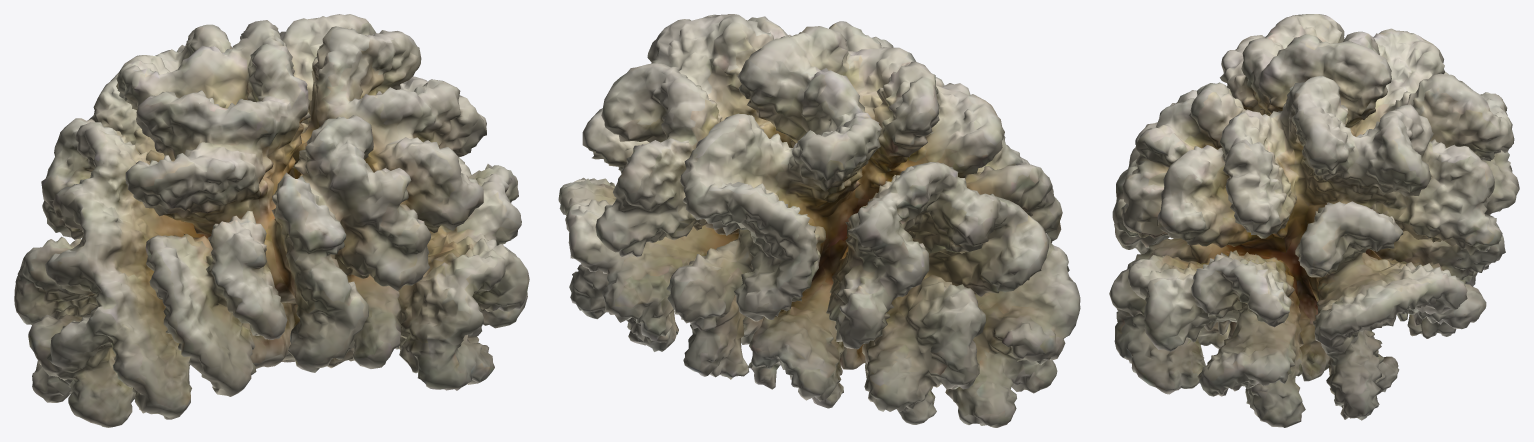
Rendered from coral_pocillopora.glb.
3 renders of one model, left to right at view 1: azimuth 30°, elevation 25°; view 2: azimuth 150°, elevation 25°; view 3: azimuth 270°, elevation 25°, orthographic. The views are drawn at different scales.
Bounding box in the file's own units: 0.1215 × 0.0827 × 0.0994.
1 material, 1 textured.
